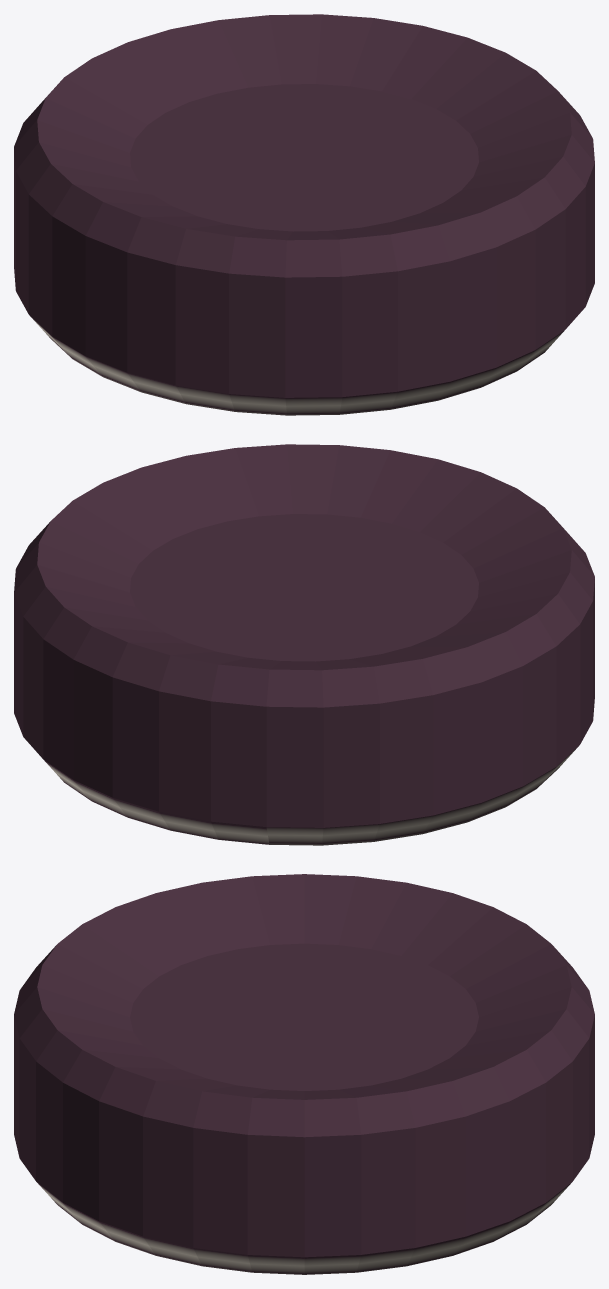
File: car_wheel.obj
3 views of the same model, one above another, from view 1: azimuth 30°, elevation 25°; view 2: azimuth 150°, elevation 25°; view 3: azimuth 270°, elevation 25° (orthographic).
Parts seen in each view (by area): view 1: front_right_Cylinder.003; view 2: front_right_Cylinder.003; view 3: front_right_Cylinder.003.
Part boxes in pixels (box(x1,y1,x2,y2)): front_right_Cylinder.003: box(14, 14, 594, 415); front_right_Cylinder.003: box(14, 444, 594, 845); front_right_Cylinder.003: box(14, 874, 594, 1274).
Bounding box in the file's own units: 3.33 × 1.11 × 3.33.
